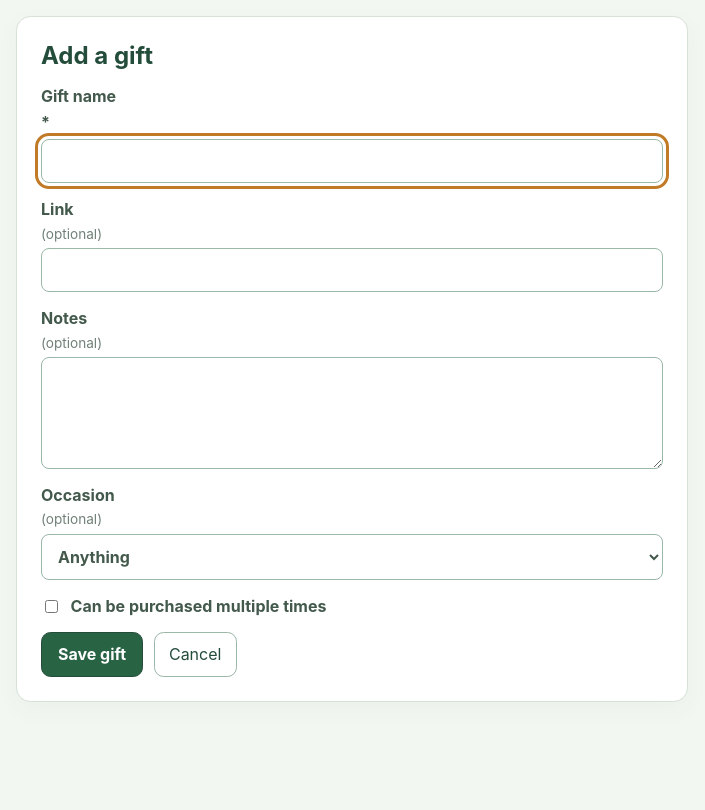
it: ItemForm › preserves every entered value and shows server field errors after a failed save
Type "A book" into the field labelled "Gift name *".
click(352, 161); type("A book")  # box top-left (41, 139), bottom-right (663, 183)
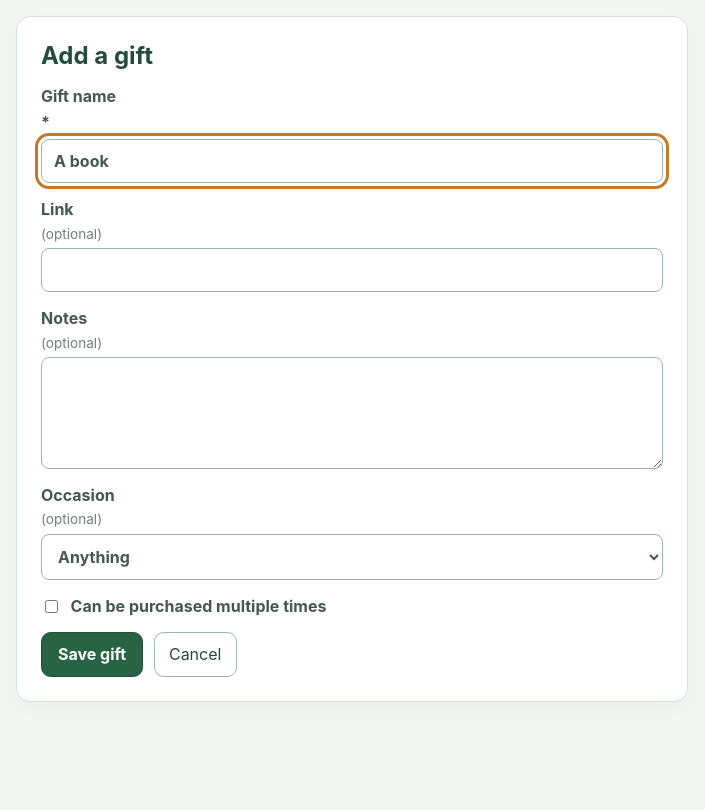
Type "https://example.com/book" into the field labelled "Link (optional)".
click(352, 270); type("https://example.com/book")  # box top-left (41, 248), bottom-right (663, 292)
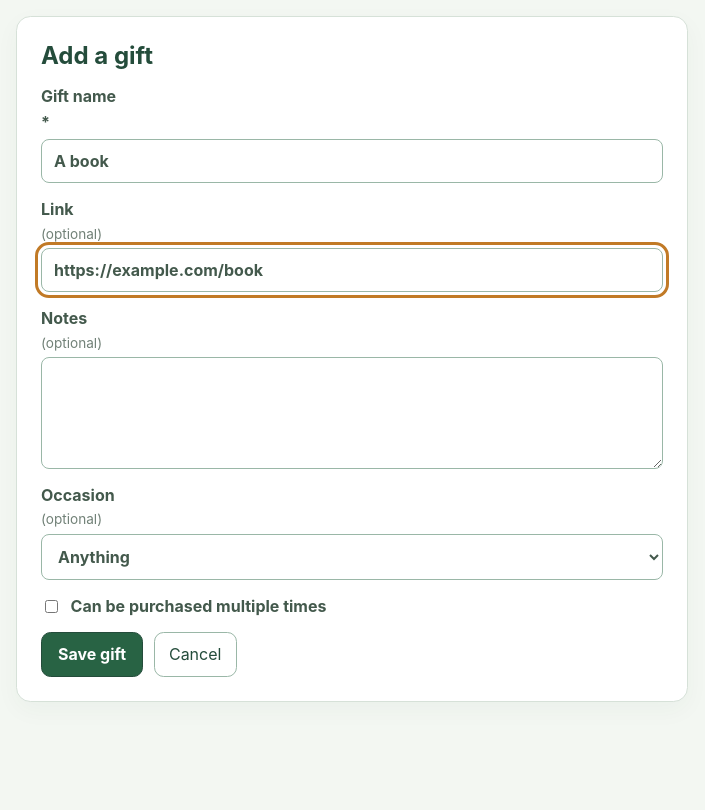
Type "For the train" into the text box labelled "Notes (optional)".
click(352, 413); type("For the train")  # box top-left (41, 357), bottom-right (663, 469)
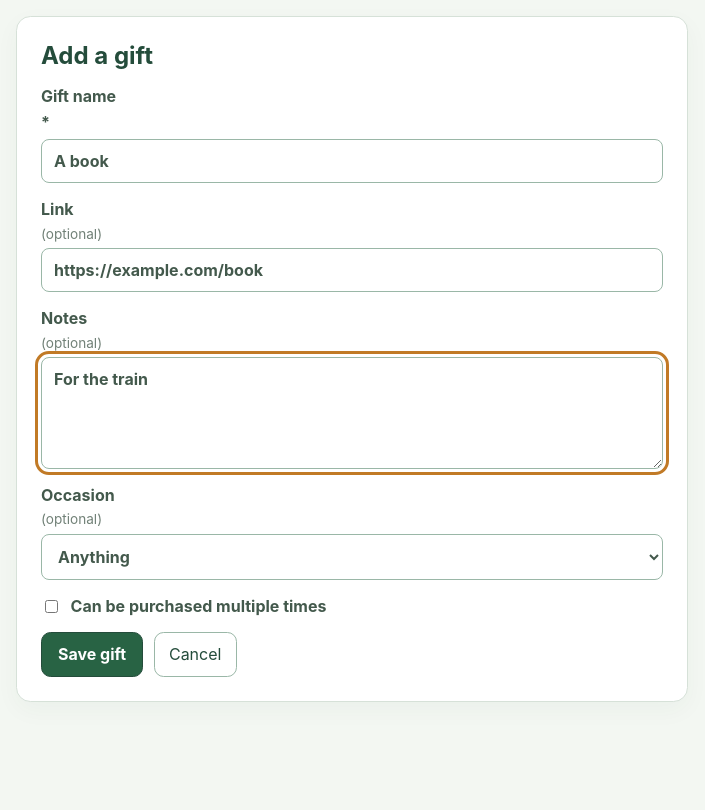
Select "Birthday" in the dropdown labelled "Occasion (optional)" at (352, 557), box top-left (41, 534), bottom-right (663, 580)
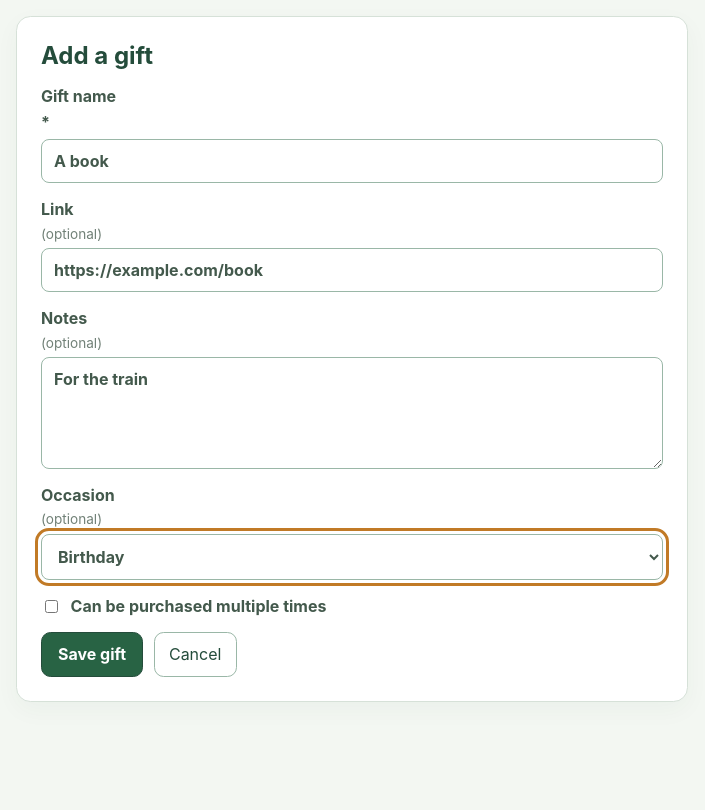
Click the checkbox labelled "Can be purchased multiple times".
click(52, 606)  # box top-left (45, 600), bottom-right (58, 613)
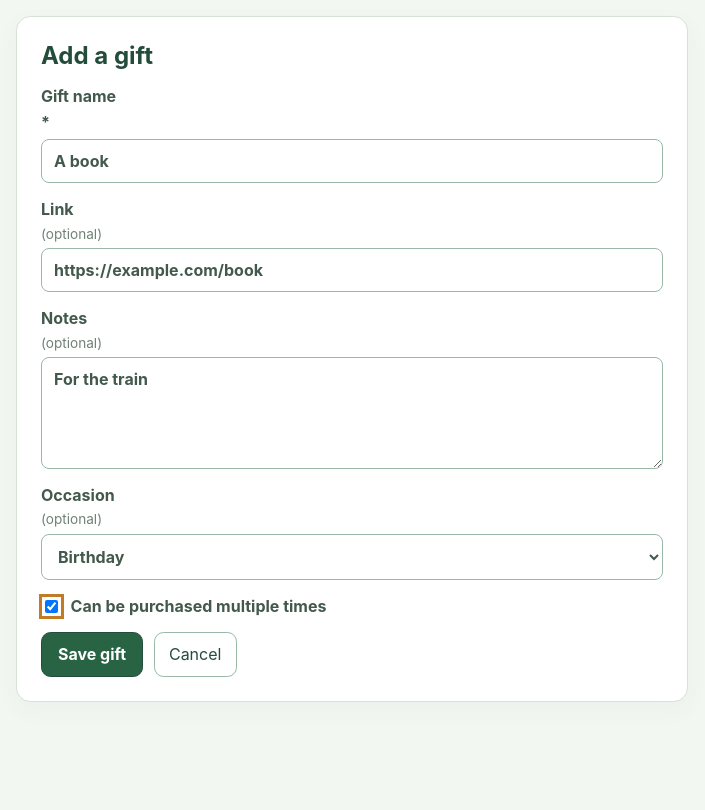
Click the button "Save gift".
click(92, 654)  # box top-left (41, 632), bottom-right (143, 677)
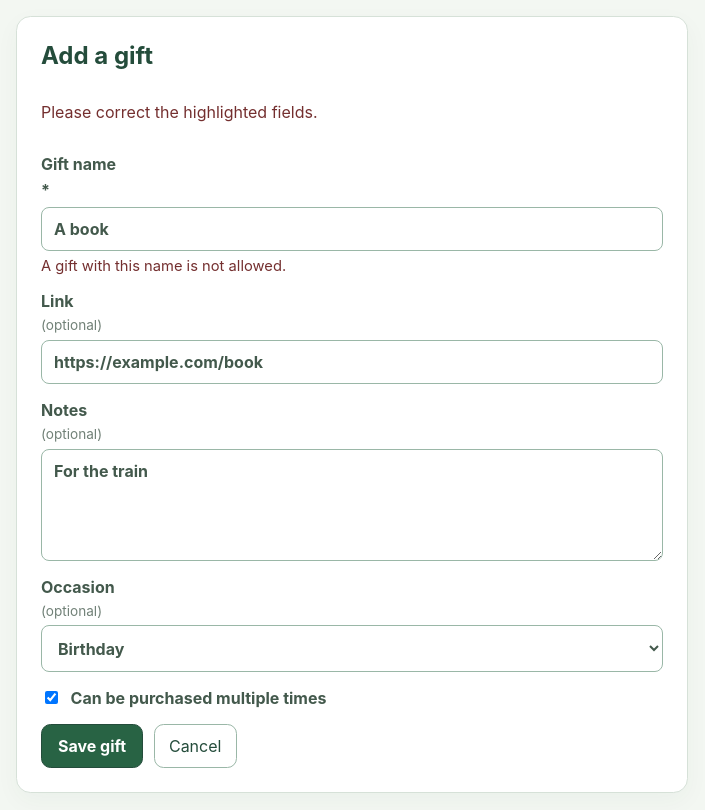
Expected: the checkbox labelled "Can be purchased multiple times" is checked, top-left (45, 691), bottom-right (58, 704)
Expected: the text "A gift with this name is not allowed." is shown, top-left (41, 257), bottom-right (286, 275)
